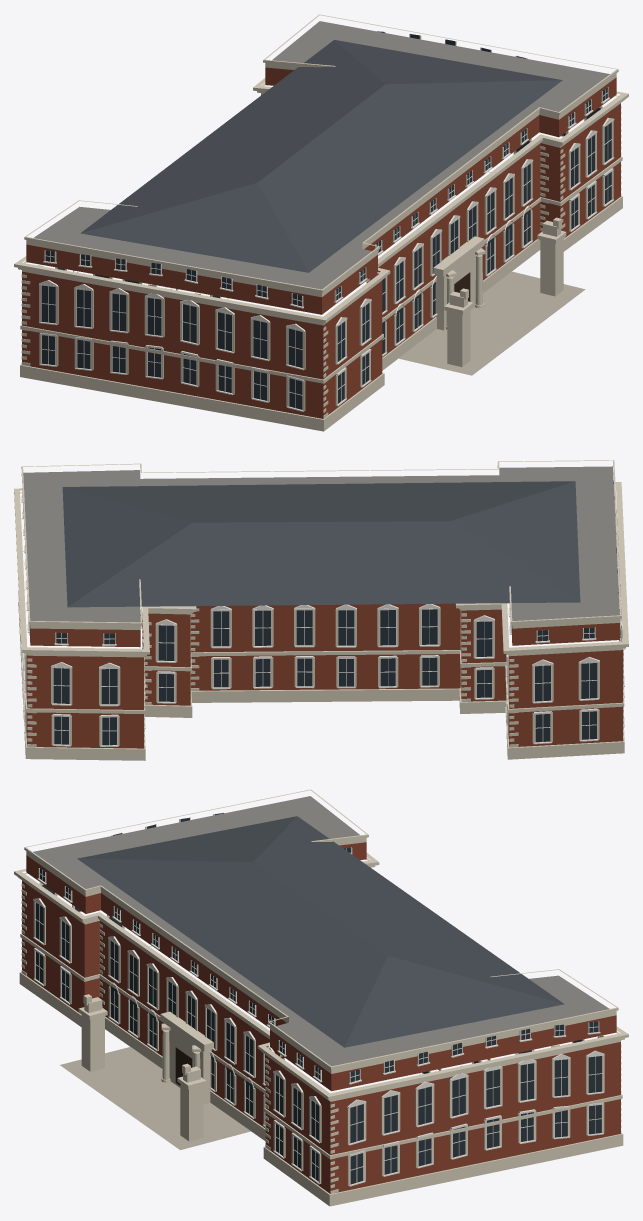
The model's file is kensington_central_library.glb.
The picture shows the model from 3 angles, top to bottom: view 1: azimuth 30°, elevation 25°; view 2: azimuth 150°, elevation 25°; view 3: azimuth 270°, elevation 25°; orthographic projection. The views are drawn at different scales.
Size of the model in its own units: 66.95 by 17.61 by 58.12.
